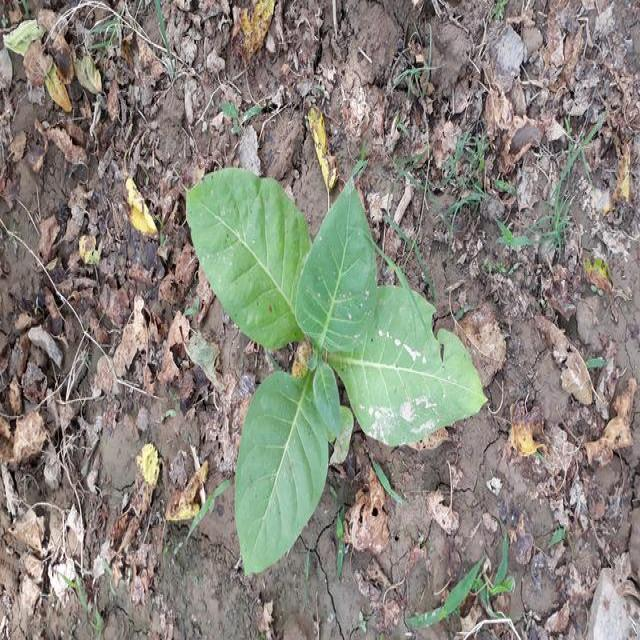crop: (194, 160, 467, 556)
